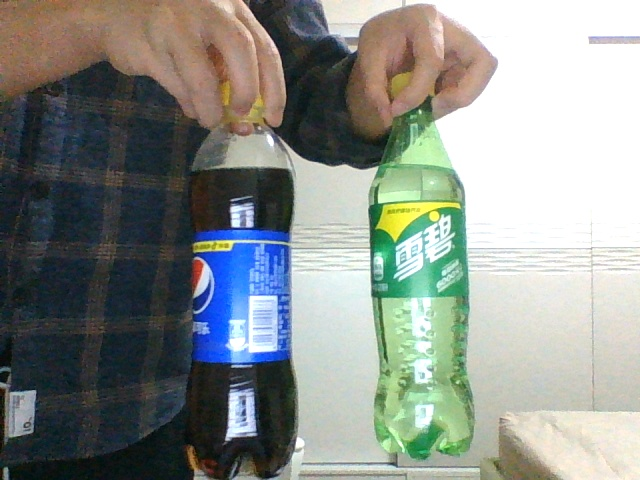Cola: (189, 79, 300, 475)
Sprite: (366, 71, 476, 461)
